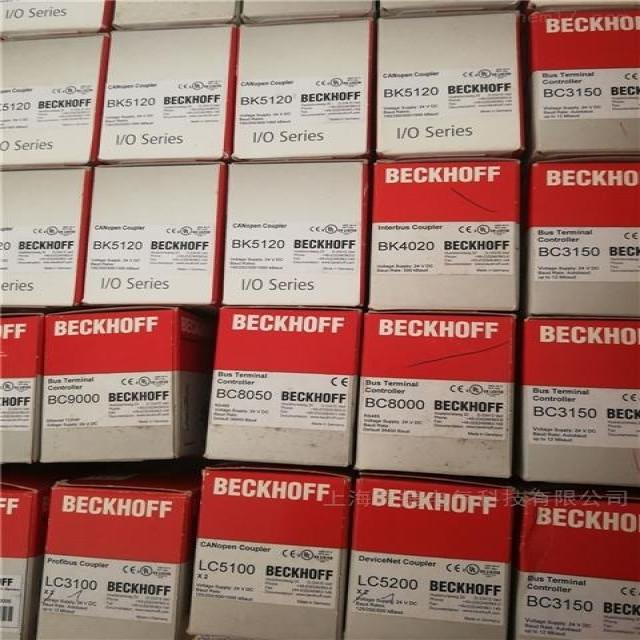box: (32, 465, 204, 639), (180, 468, 354, 638), (41, 303, 216, 467), (354, 317, 519, 480), (350, 472, 513, 636), (200, 309, 362, 471), (366, 157, 526, 313), (371, 11, 527, 160), (220, 159, 369, 307), (78, 162, 226, 307), (231, 20, 377, 162), (95, 25, 241, 166), (522, 320, 640, 489), (512, 487, 638, 639), (525, 160, 639, 320), (527, 10, 639, 158), (0, 30, 110, 169), (0, 165, 95, 312), (0, 475, 49, 638), (0, 311, 50, 468), (0, 0, 110, 35), (111, 1, 238, 28), (238, 1, 372, 25), (374, 1, 522, 19), (528, 1, 639, 13)
